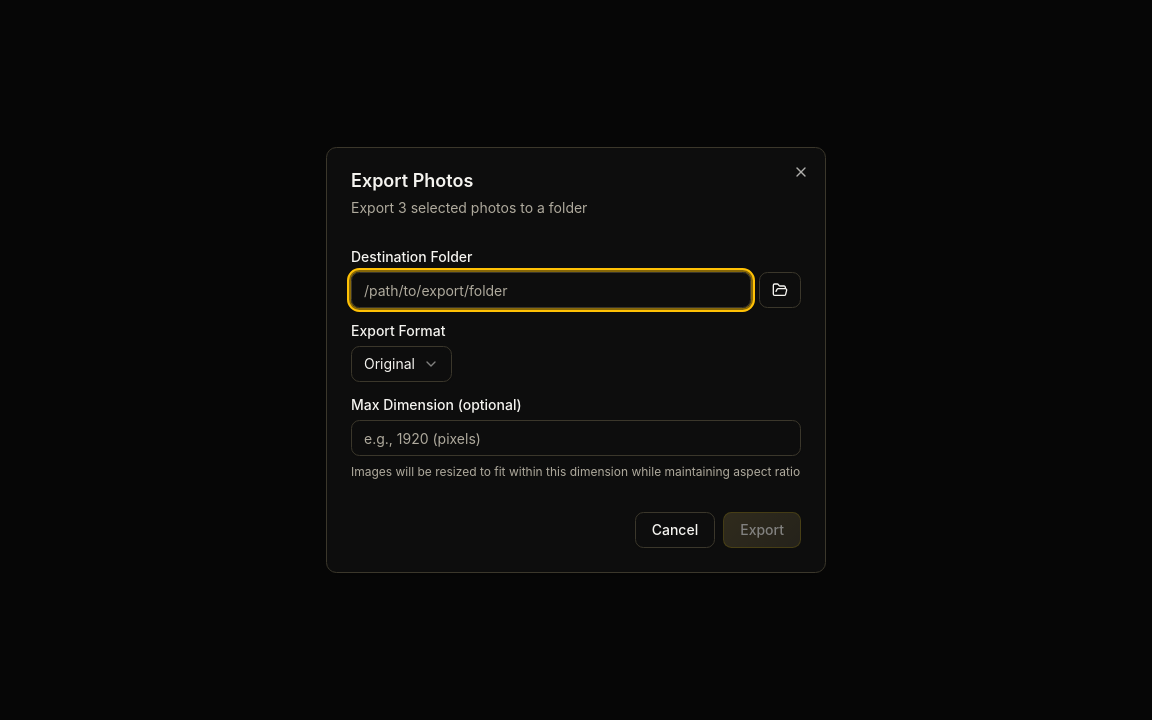
Test case: BatchExportDialog Component › Export Operation › disables buttons during loading
The width and height of the screenshot is (1152, 720).
Step 1. Type "/export/path" into the field labelled "Destination Folder" → (551, 290), box [351,272,751,308]
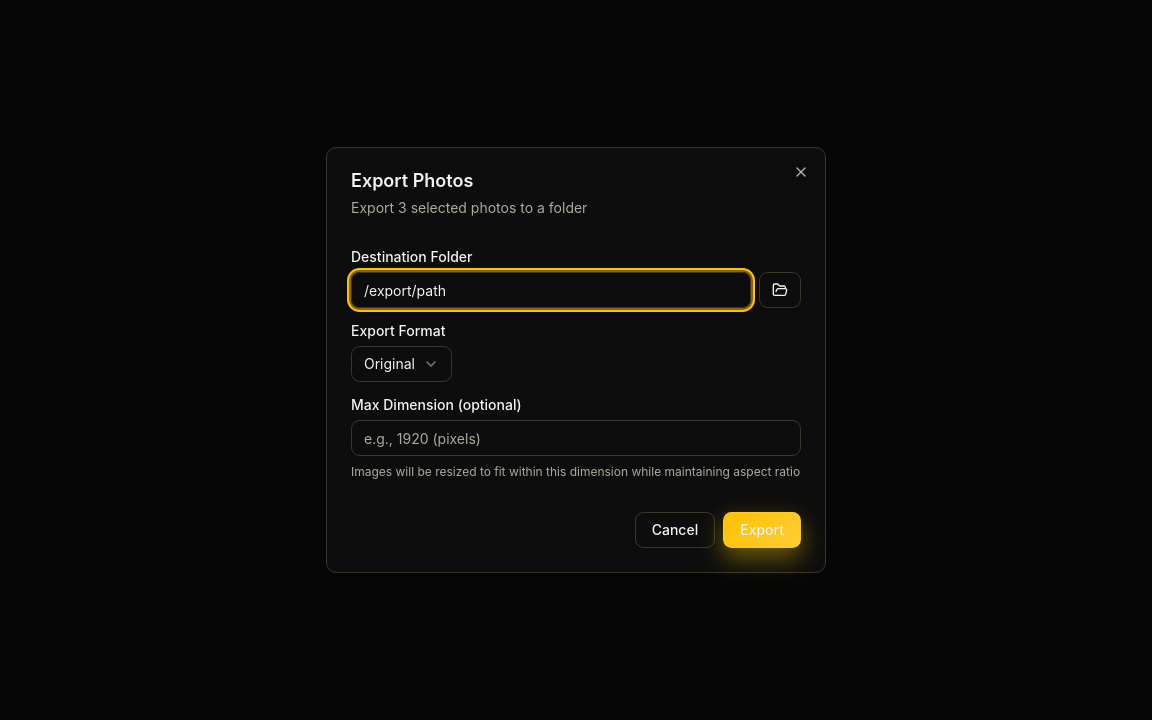
Step 2. Click the button "Export" → (762, 530), box [723,512,801,548]
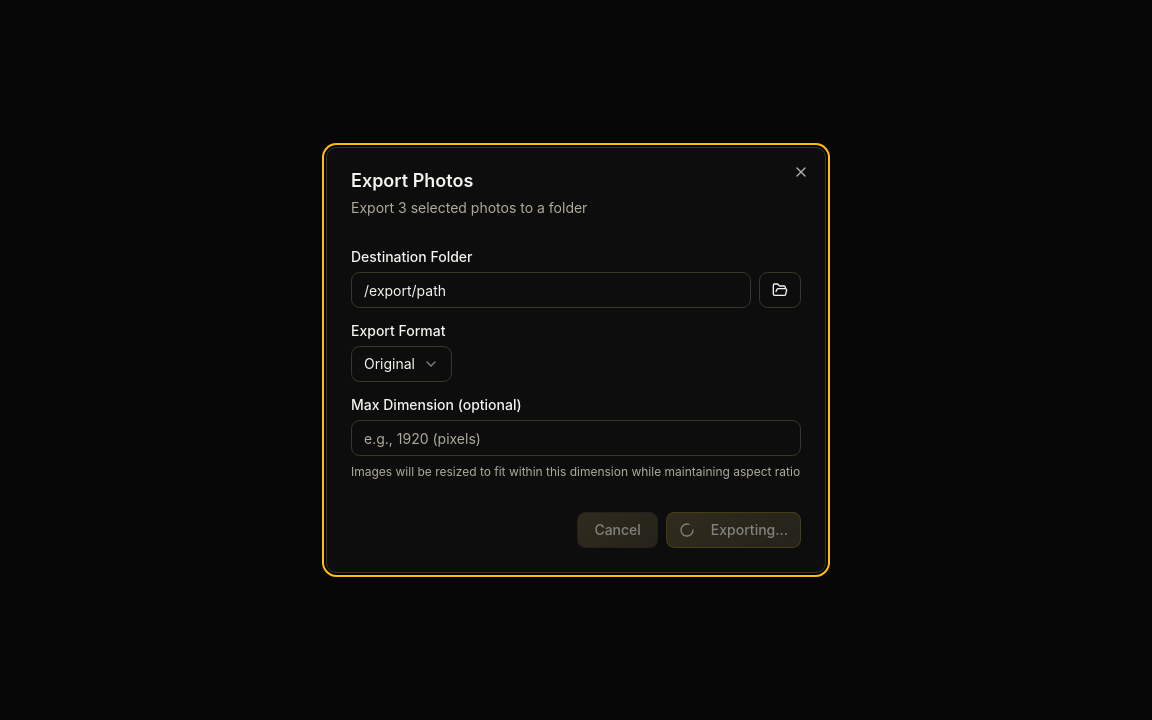
Now the button "Cancel" is disabled, box [577,512,658,548]
